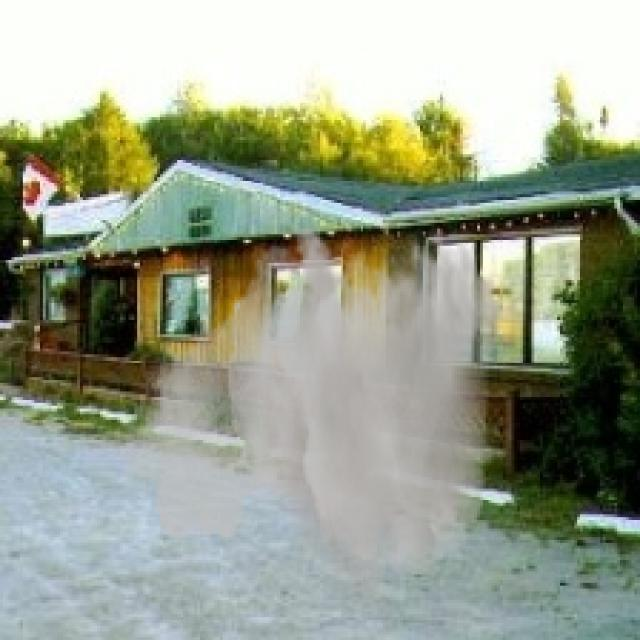smoke: (106, 223, 500, 628)
